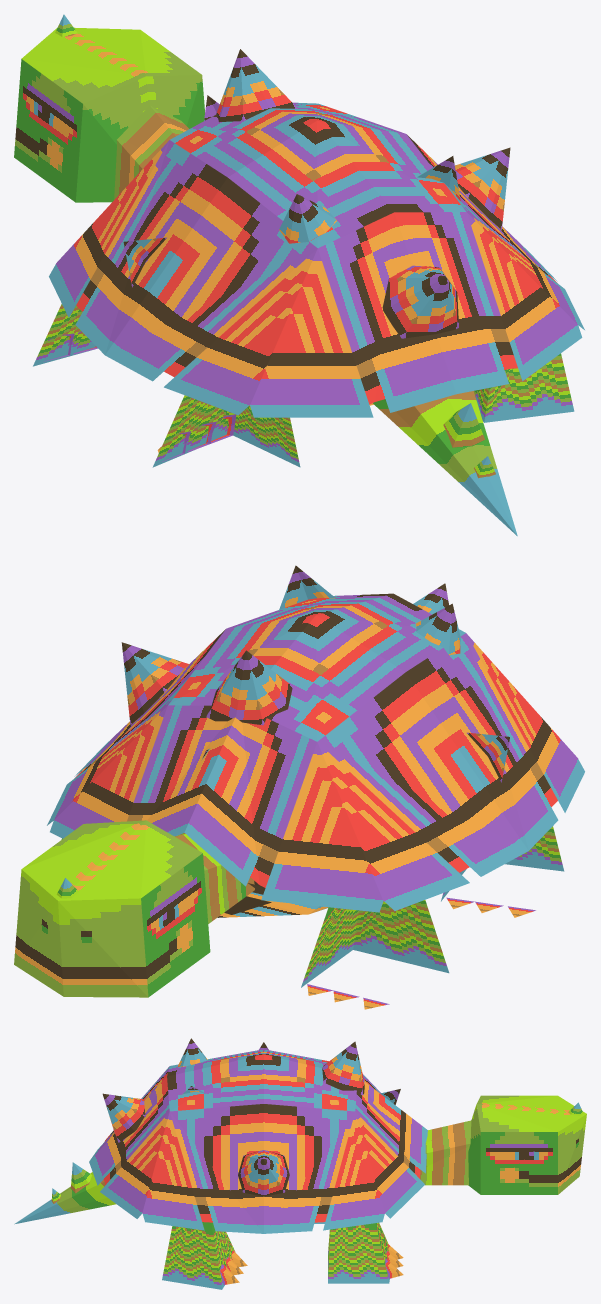
File: fancy_turtle.glb
The picture shows the model from 3 angles, top to bottom: view 1: azimuth 30°, elevation 25°; view 2: azimuth 150°, elevation 25°; view 3: azimuth 270°, elevation 25°; orthographic projection. The views are drawn at different scales.
Parts seen in each view (by area): view 1: mesh_0; view 2: mesh_0; view 3: mesh_0.
Boxes of the visible parts, x1,y1,x2,y2 form: mesh_0: (14,14,584,536); mesh_0: (14,565,584,1009); mesh_0: (14,1038,586,1289).
Bounding box in the file's own units: 3.56 × 2.36 × 6.66.
Materials: 1 (1 with a texture image).
